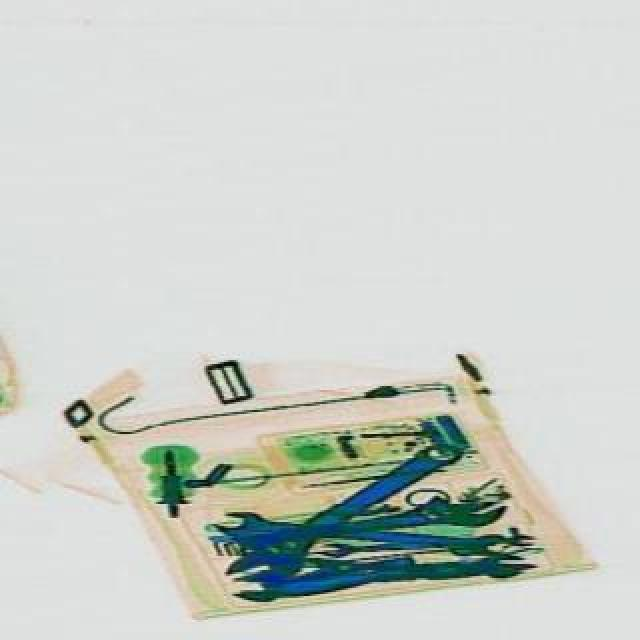scissors: (210, 422, 470, 614), (238, 492, 506, 556), (210, 506, 502, 558), (226, 548, 412, 604), (356, 550, 522, 586)
